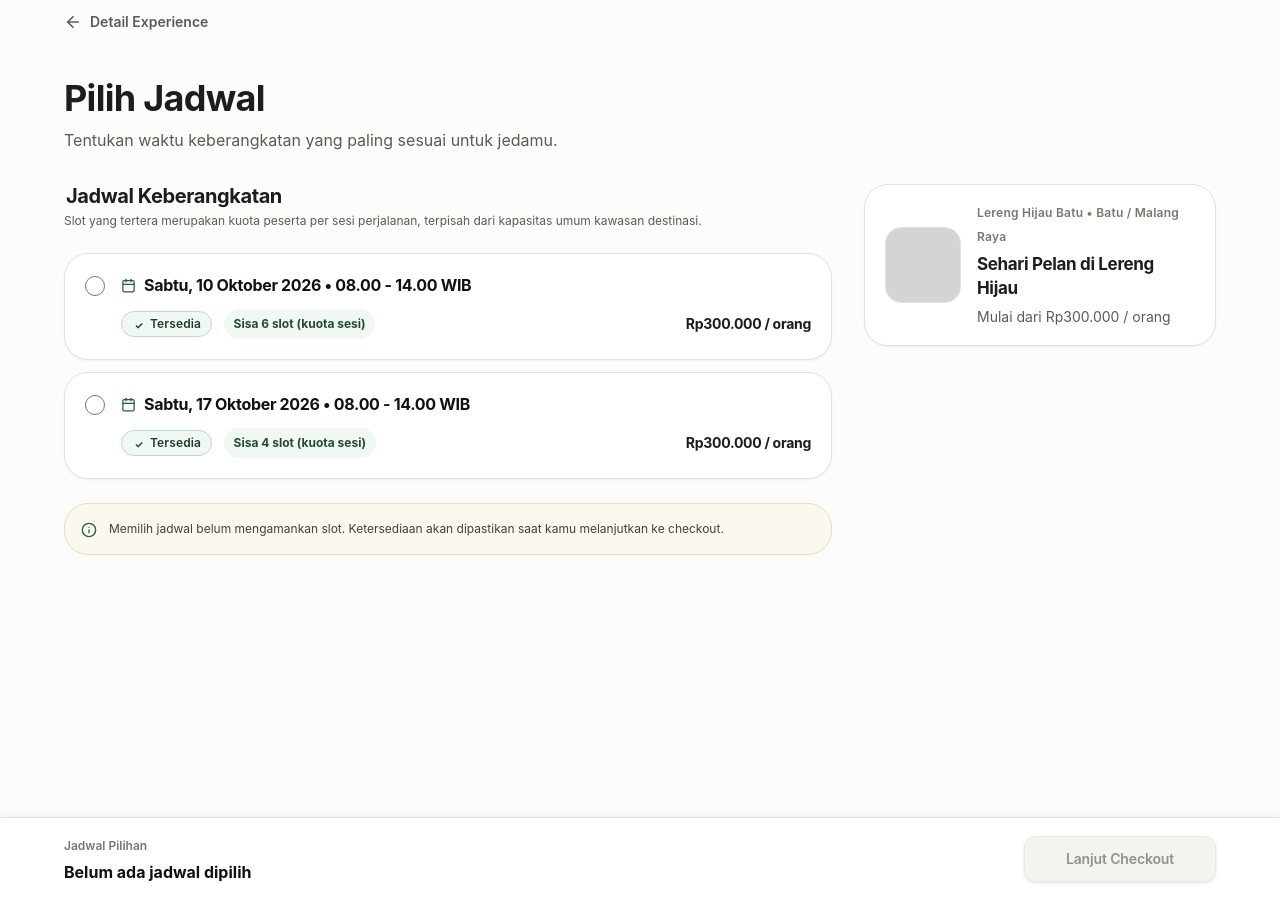
Scenario: SessionSelectionScreen Tests & Contracts › 5. REAL OPEN -> CANCELLED stale revalidation clears selection, removes session from list, and shows warning notice
Click the radio button labelled "Sabtu, 10 Oktober 2026 • 08.00 - 14.00 WIB" at (95, 286), box [85,276,105,296]
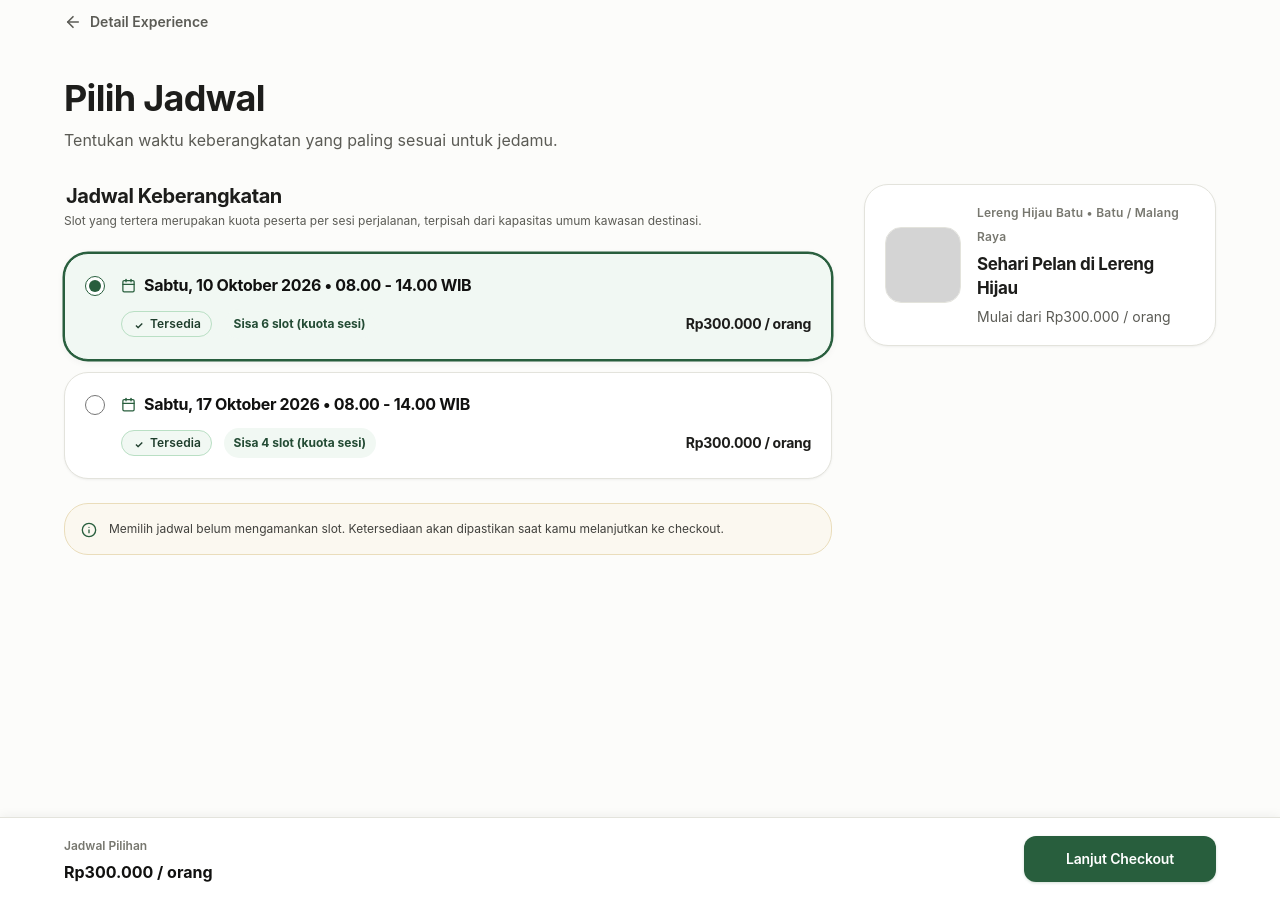
Click the button "Lanjut Checkout" at (1120, 859), box [1024,836,1216,882]
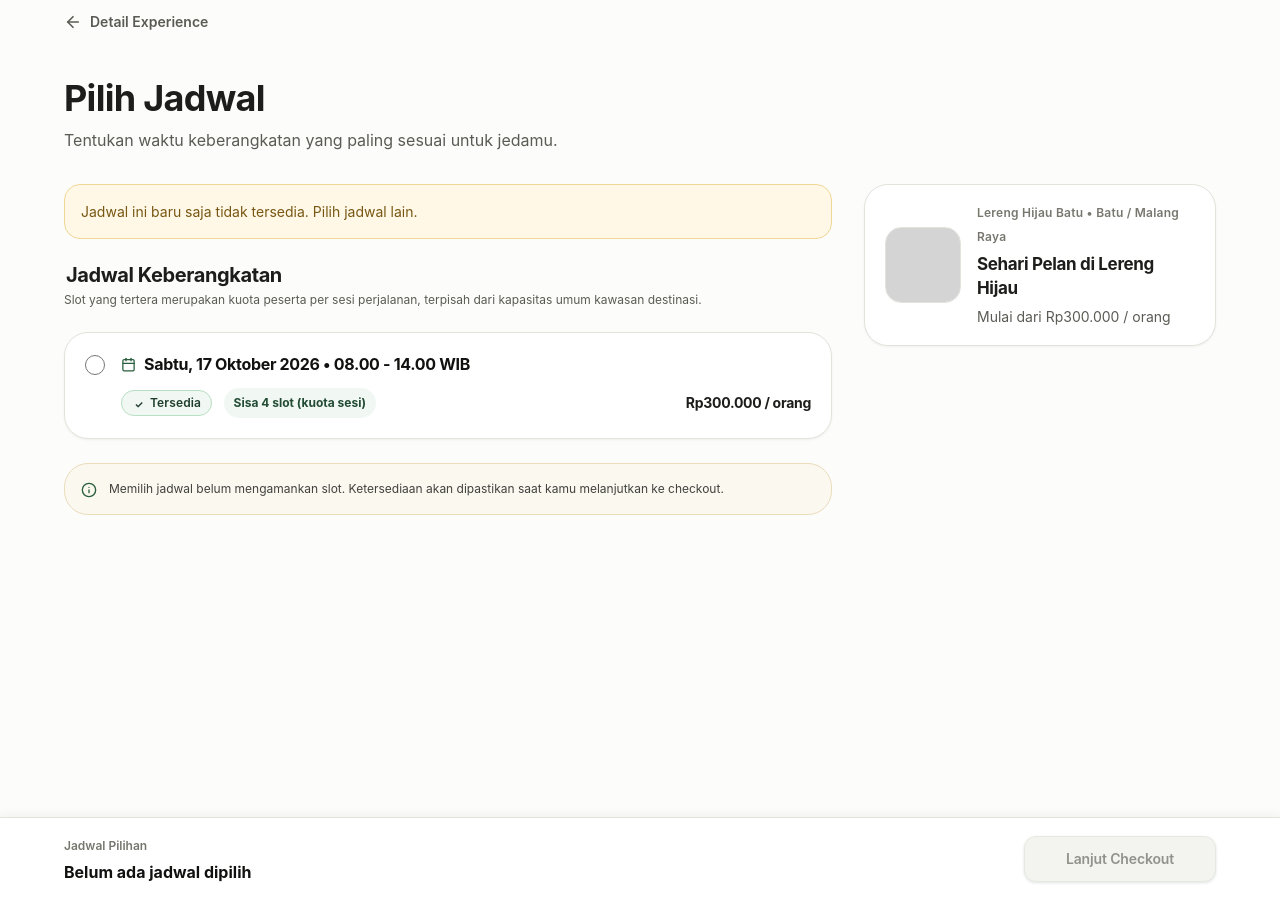
Expected: the text "Jadwal ini baru saja tidak tersedia. Pilih jadwal lain." is shown, [81,203,418,220]
Expected: the number of elements with class "session-card" is 1, [64,332,832,439]
